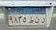1: (9, 16, 12, 23)
3: (18, 16, 22, 24)
5: (22, 16, 26, 23)
8: (13, 16, 18, 24)
Taa: (28, 16, 33, 25)
noon: (34, 16, 39, 24)
raa: (41, 17, 46, 24)
